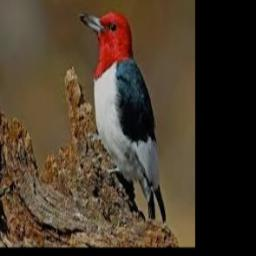Woodpecker: (80, 11, 167, 224)
